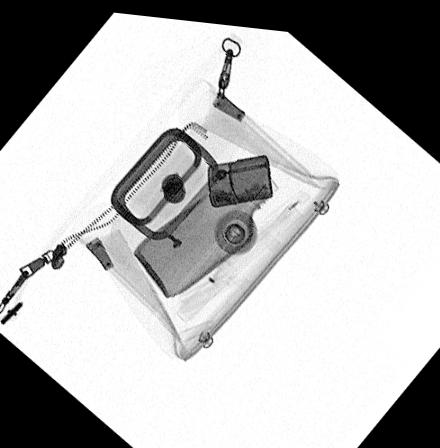Lighter: (207, 147, 273, 203)
